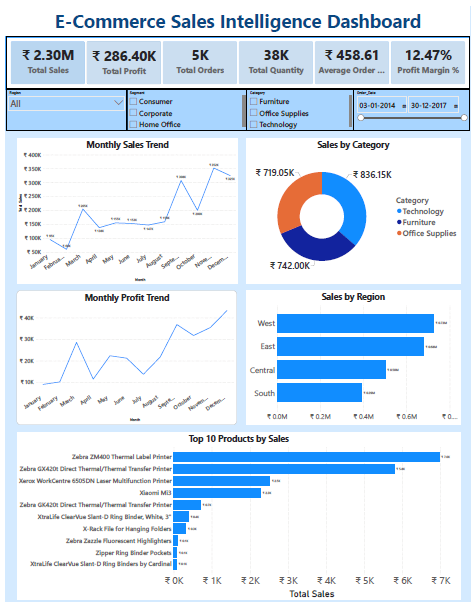

The page's visual inventory and layout, read from the dashboard file:
{"tool":"powerbi","page":{"name":"Executive Dashboard","canvas":[1800,2300],"ordinal":0},"visuals":[{"type":"textbox","box":[0,0,1800,114.3],"z":0},{"type":"cardVisual","fields":{"Data":["Orders.Total Sales","Orders.Total Profit","Orders.Total Orders","Orders.Total Quantity","Orders.Average Order Value","Orders.Profit Margin %"]},"box":[0,114.3,1800,204.8],"z":1000},{"type":"lineChart","title":"Monthly Sales Trend","fields":{"Category":["Orders.Order_Date.Variation.Date Hierarchy.Year","Orders.Order_Date.Variation.Date Hierarchy.Month"],"Y":["Orders.Total Sales"]},"box":[42.9,509.5,857.1,561.9],"z":2000},{"type":"lineChart","title":"Monthly Profit Trend","fields":{"Category":["Orders.Order_Date.Variation.Date Hierarchy.Month"],"Y":["Orders.Total Profit"]},"box":[42.1,1100,852.6,521.1],"z":3000},{"type":"donutChart","title":"Sales by Category","fields":{"Category":["Orders.Category"],"Y":["Orders.Total Sales"]},"box":[933.3,509.5,828.6,561.9],"z":4000},{"type":"clusteredBarChart","title":"Sales by Region","fields":{"Category":["Orders.Region"],"Y":["Orders.Total Sales"]},"box":[933.3,1100,828.6,519],"z":5000},{"type":"clusteredBarChart","title":"Top 10 Products by Sales","fields":{"Category":["Orders.Product_Name"],"Y":["Orders.Total Sales"]},"box":[42.9,1652.4,1719,647.6],"z":6000},{"type":"slicer","fields":{"Values":["Orders.Region"]},"box":[0,319,471.4,161.9],"z":7000},{"type":"slicer","fields":{"Values":["Orders.Segment"]},"box":[466.7,319,466.7,161.9],"z":8000},{"type":"slicer","fields":{"Values":["Orders.Category"]},"box":[933.3,319,414.3,161.9],"z":9000},{"type":"slicer","fields":{"Values":["Orders.Order_Date"]},"box":[1347.6,319,452.4,161.9],"z":10000}]}

Visuals, with their boxes in screenshot pixels (x1, y1, x2, y2), scaled from the page's 1800x2300 canvas onto the 471x602 screenshot:
textbox: box=[0, 0, 470, 30]
cardVisual - Orders.Total Sales x Orders.Total Profit: box=[0, 30, 470, 84]
"Monthly Sales Trend" lineChart: box=[11, 133, 236, 280]
"Monthly Profit Trend" lineChart: box=[11, 288, 234, 424]
"Sales by Category" donutChart: box=[244, 133, 461, 280]
"Sales by Region" clusteredBarChart: box=[244, 288, 461, 424]
"Top 10 Products by Sales" clusteredBarChart: box=[11, 432, 461, 601]
slicer - Orders.Region: box=[0, 83, 123, 126]
slicer - Orders.Segment: box=[122, 83, 244, 126]
slicer - Orders.Category: box=[244, 83, 353, 126]
slicer - Orders.Order_Date: box=[353, 83, 470, 126]
